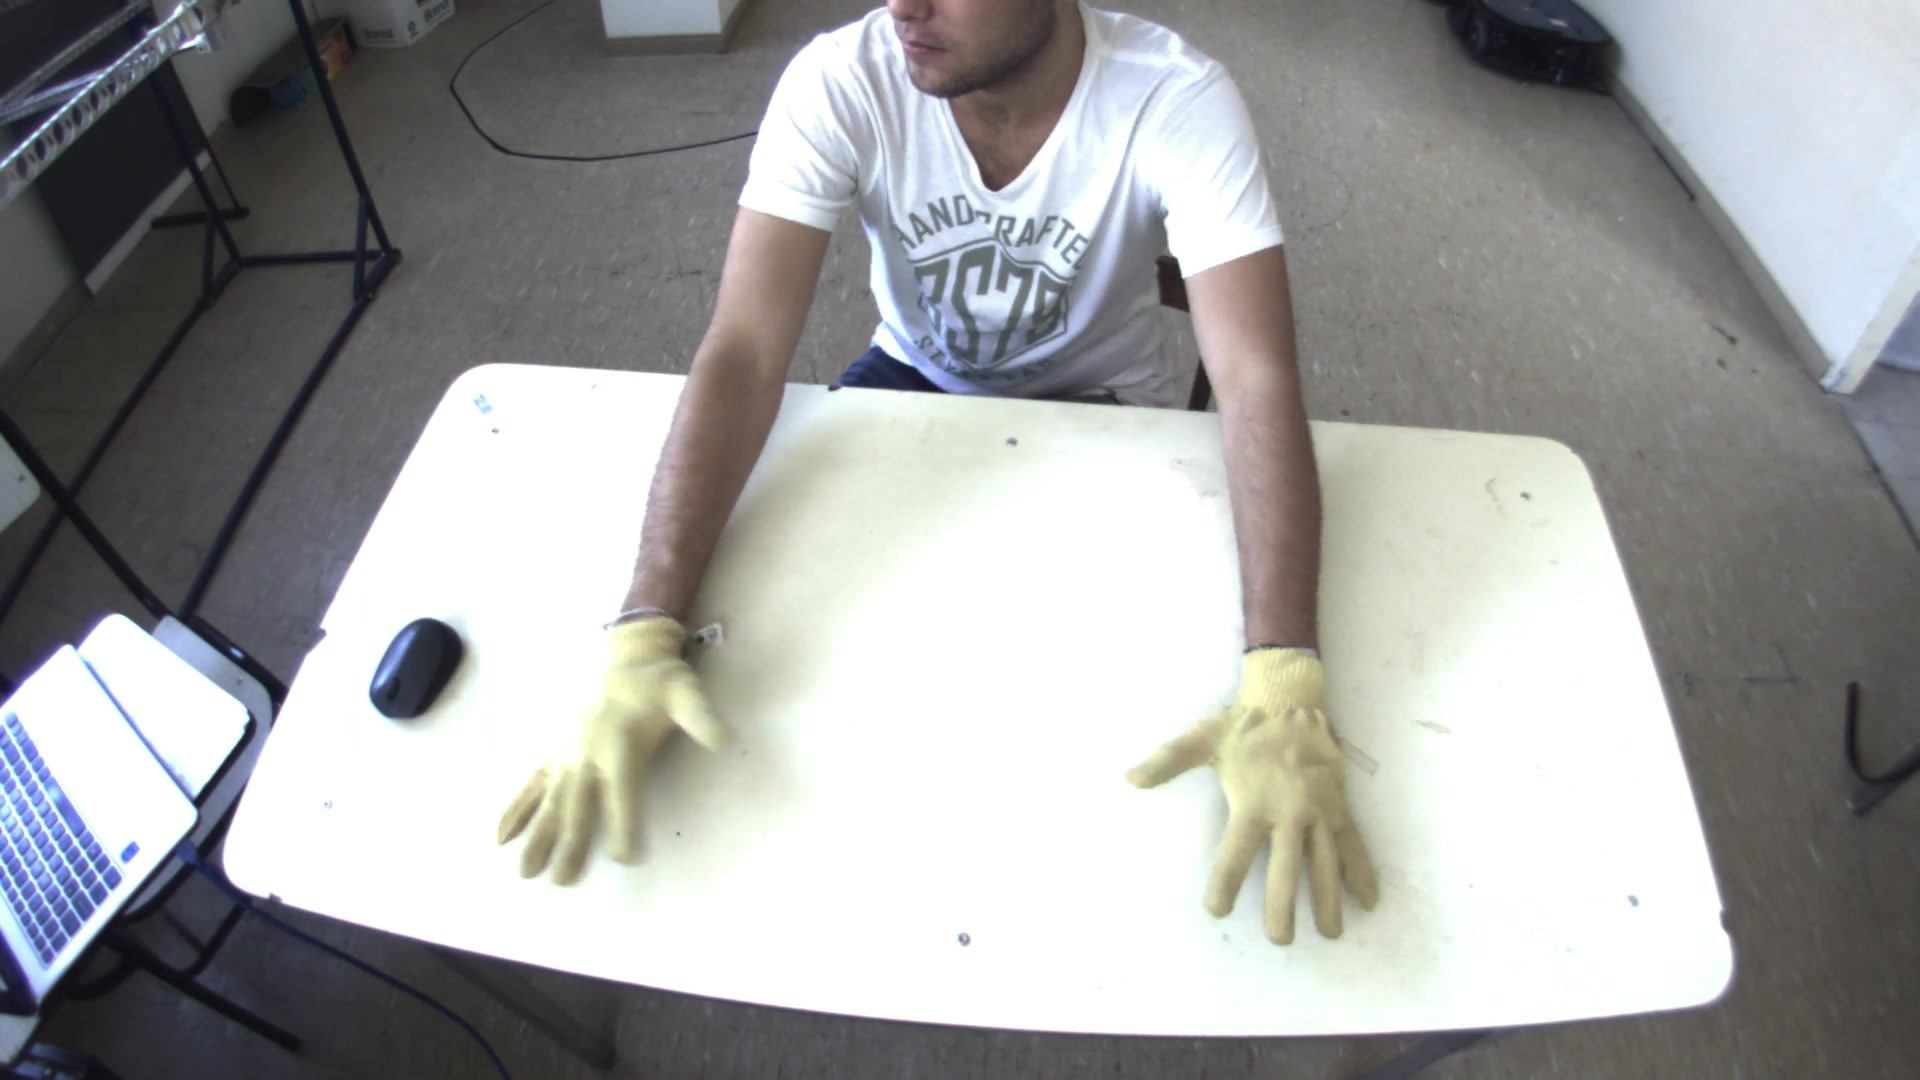hand: (1121, 636, 1403, 952)
